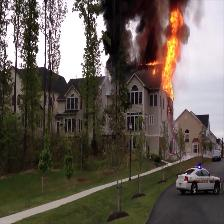fire: (161, 6, 184, 94)
smoke: (100, 2, 156, 57)
